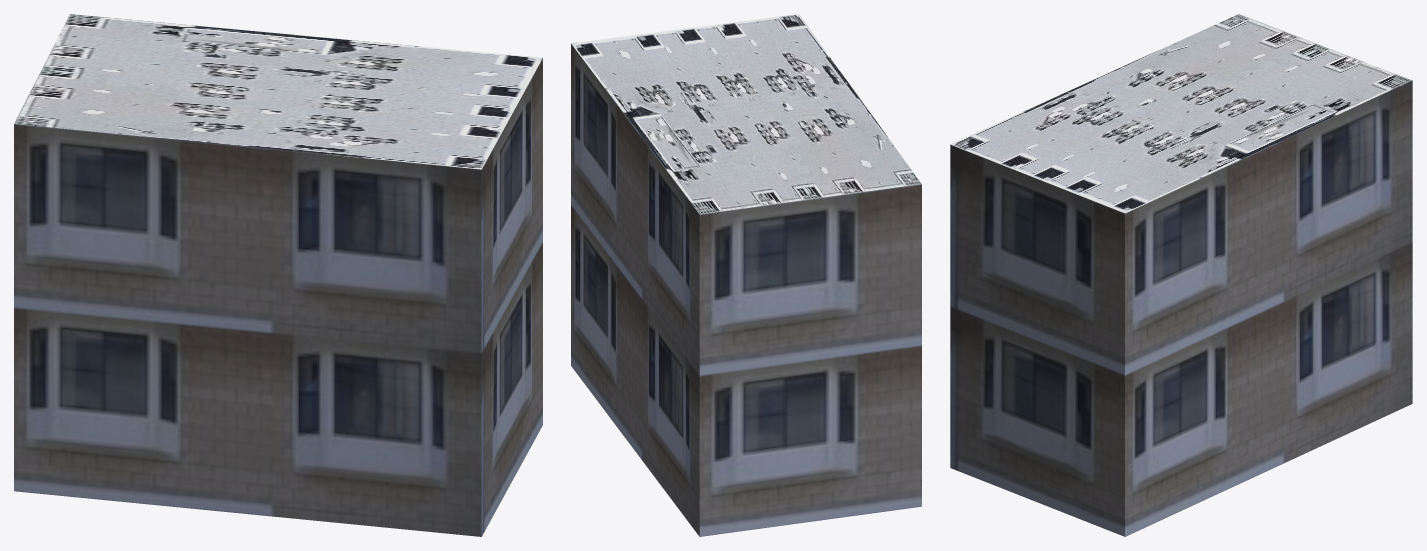
Rendered from ResTex__3194.fbx.
The picture shows the model from 3 angles, left to right: view 1: azimuth 30°, elevation 25°; view 2: azimuth 150°, elevation 25°; view 3: azimuth 270°, elevation 25°; orthographic projection. The views are drawn at different scales.
Visible parts, largest first — view 1: CityEngineMaterial_3_m, CityEngineMaterial_2_m; view 2: CityEngineMaterial_3_m, CityEngineMaterial_2_m; view 3: CityEngineMaterial_3_m, CityEngineMaterial_2_m.
Part boxes in pixels (x1,y1,x2,y2): CityEngineMaterial_3_m: [14, 58, 542, 536]; CityEngineMaterial_2_m: [14, 14, 542, 169]; CityEngineMaterial_3_m: [571, 44, 921, 536]; CityEngineMaterial_2_m: [571, 14, 921, 214]; CityEngineMaterial_3_m: [950, 80, 1412, 536]; CityEngineMaterial_2_m: [951, 14, 1411, 213].
Size of the model in its own units: 7.94 by 6 by 7.77.
Materials: 2 (2 with a texture image).
